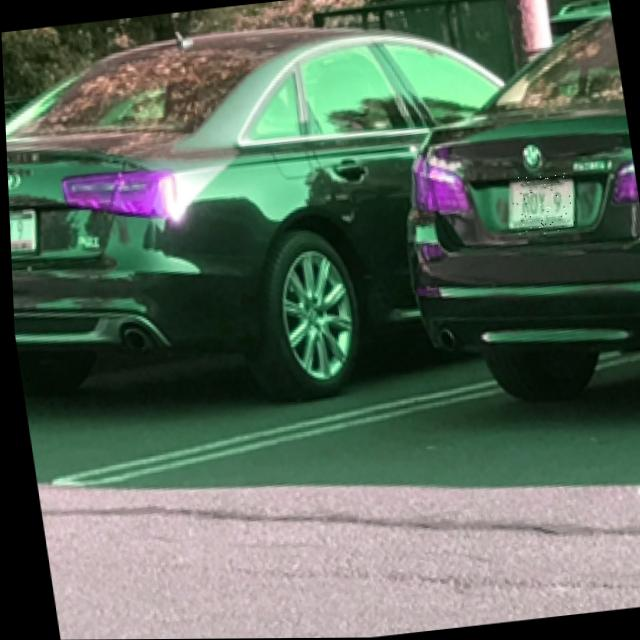license_plate: (506, 172, 574, 238)
